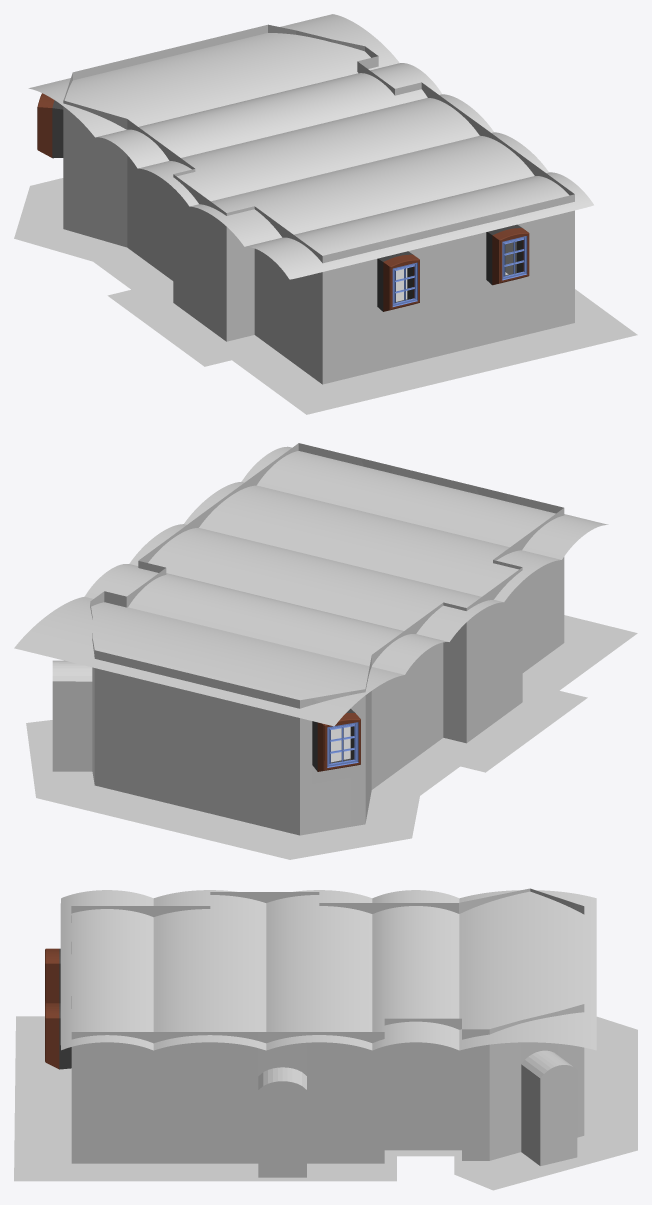
Rendered from Místnost č.2-Final2.fbx.
3 views of the same model, one above another, from view 1: azimuth 30°, elevation 25°; view 2: azimuth 150°, elevation 25°; view 3: azimuth 270°, elevation 25° (orthographic). The views are drawn at different scales.
Visible parts, largest first — view 1: Klenby-strop.001, Jednostěna.037, Podlaha-místnosti č.001; view 2: Klenby-strop.001, Jednostěna.037, Podlaha-místnosti č.001; view 3: Klenby-strop.001, Jednostěna.037, Podlaha-místnosti č.001.
Part boxes in pixels (box(x1,y1,x2,y2)): Klenby-strop.001: box(28, 14, 593, 279); Jednostěna.037: box(37, 24, 574, 384); Podlaha-místnosti č.001: box(14, 178, 637, 414); Klenby-strop.001: box(14, 446, 608, 726); Jednostěna.037: box(52, 443, 564, 835); Podlaha-místnosti č.001: box(26, 615, 637, 859); Klenby-strop.001: box(60, 890, 596, 1050); Jednostěna.037: box(45, 888, 584, 1177); Podlaha-místnosti č.001: box(14, 1016, 637, 1190).
Size of the model in its own units: 863 by 274 by 1174.
